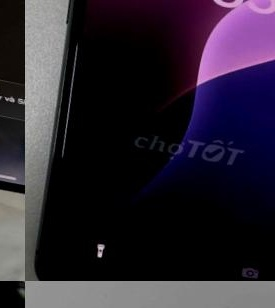scratch: (90, 49, 171, 105)
